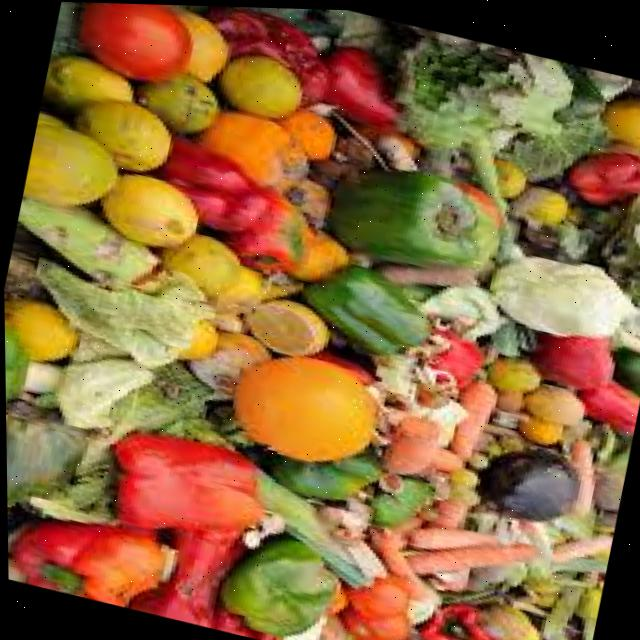Wet: (0, 0, 640, 640), (3, 5, 367, 345), (283, 129, 533, 384), (208, 326, 410, 489), (59, 1, 236, 123), (463, 421, 618, 554), (550, 68, 640, 247)
